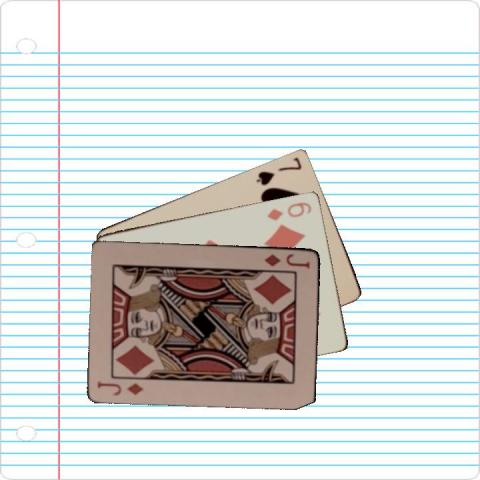6d: (264, 199, 313, 222)
7s: (253, 154, 303, 187)
Jd: (262, 250, 312, 270), (95, 377, 145, 397)
